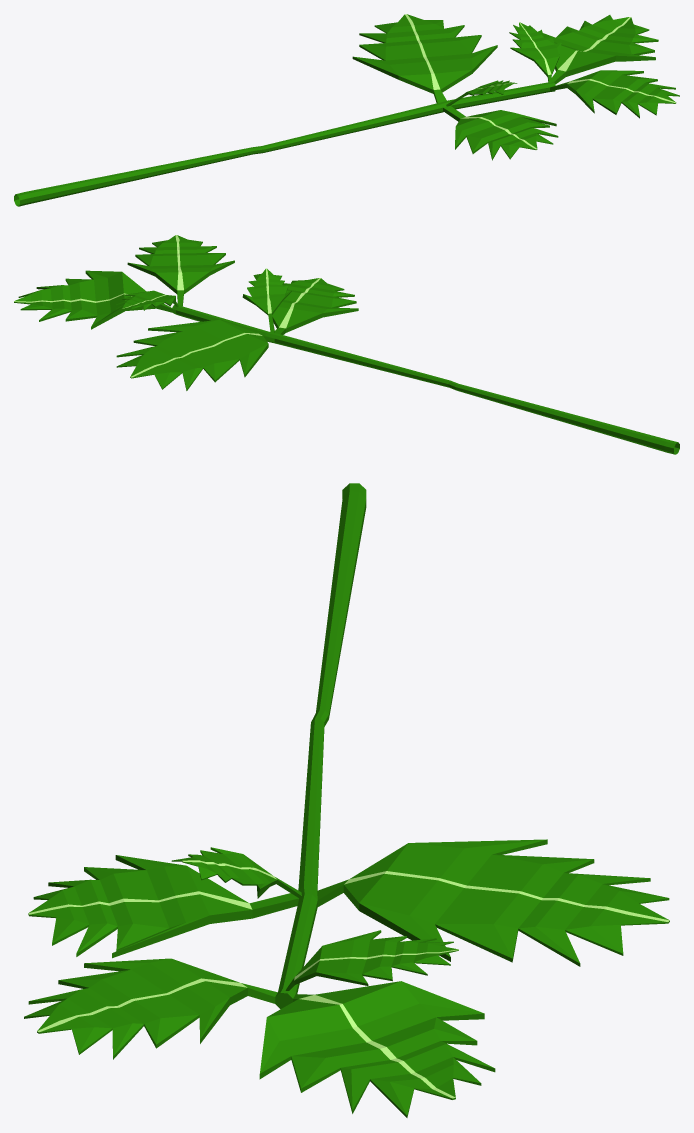
File: parsley01.obj
The picture shows the model from 3 angles, top to bottom: view 1: azimuth 30°, elevation 25°; view 2: azimuth 150°, elevation 25°; view 3: azimuth 270°, elevation 25°; orthographic projection. The views are drawn at different scales.
Parts seen in each view (by area): view 1: Cylinder; view 2: Cylinder; view 3: Cylinder.
Boxes of the visible parts, bbox=[...] form: Cylinder: bbox=[14, 14, 679, 206]; Cylinder: bbox=[14, 235, 679, 454]; Cylinder: bbox=[24, 483, 669, 1117].
Size of the model in its own units: 0.1405 by 0.00903 by 0.0609.
Materials: 1 (1 with a texture image).
